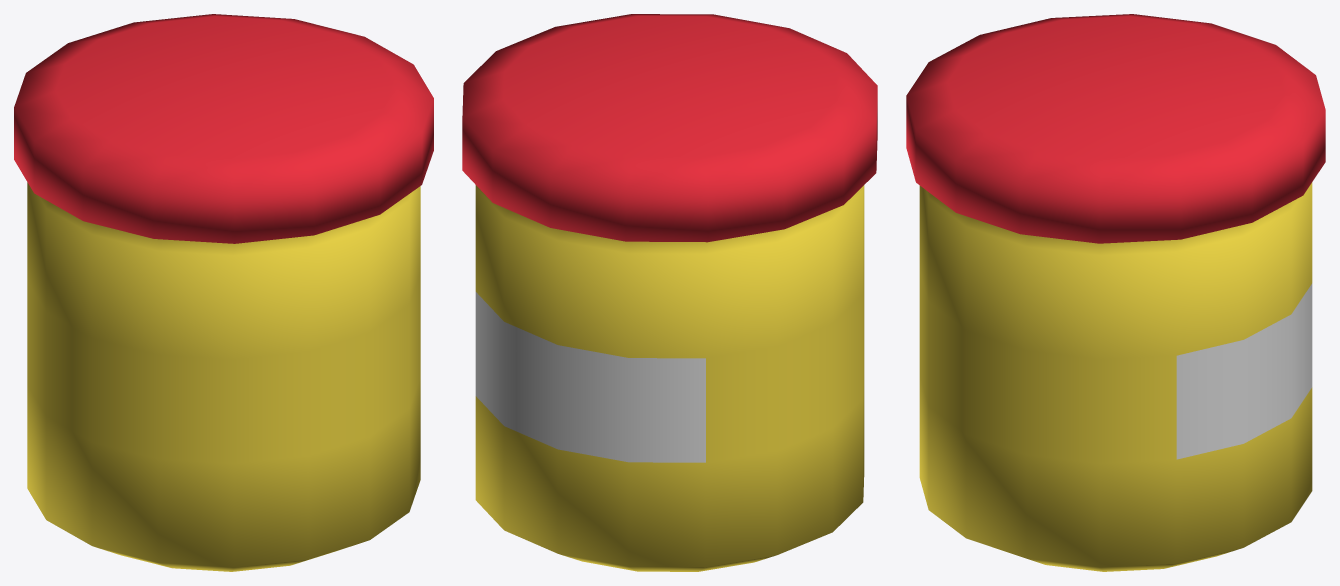
Rendered from medicine.fbx.
3 views of the same model, side by side, from view 1: azimuth 30°, elevation 25°; view 2: azimuth 150°, elevation 25°; view 3: azimuth 270°, elevation 25° (orthographic).
Visible parts, largest first — view 1: medicine; view 2: medicine; view 3: medicine.
Part boxes in pixels (bbox=[...]): medicine: bbox=[14, 14, 433, 571]; medicine: bbox=[462, 14, 877, 571]; medicine: bbox=[906, 14, 1325, 571].
Size of the model in its own units: 0.522 by 0.5762 by 0.522.
